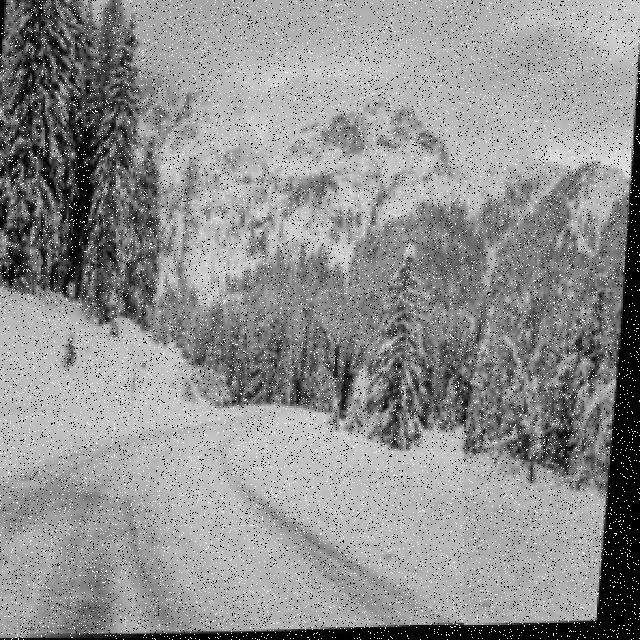ice-road: (0, 414, 464, 636)
